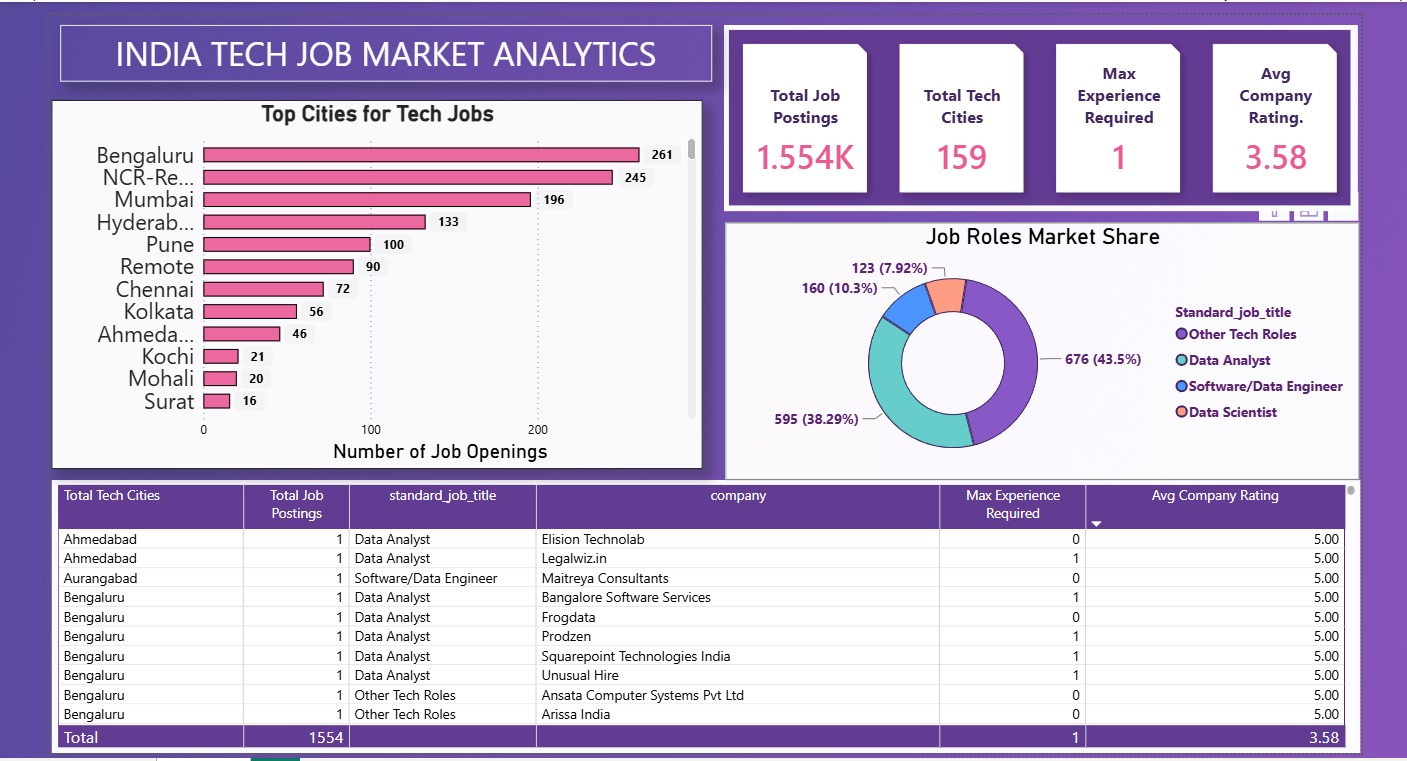

Layout of this report page (visuals, bound fields, positions):
{"tool":"powerbi","page":{"name":"Page 1","canvas":[1280,720],"ordinal":0},"visuals":[{"type":"tableEx","fields":{"Values":["india_job_market_db cleaned_job_listings.cleaned_location","CountNonNull(india_job_market_db cleaned_job_listings.id)","india_job_market_db cleaned_job_listings.standard_job_title","select","india_job_market_db cleaned_job_listings.company","Max(india_job_market_db cleaned_job_listings.min_experience)","Avg(india_job_market_db cleaned_job_listings.rating)"]},"box":[0,467.9,1276.5,251.9],"z":0},{"type":"barChart","title":"Top Cities for Tech Jobs","fields":{"Category":["india_job_market_db cleaned_job_listings.cleaned_location"],"Y":["CountNonNull(india_job_market_db cleaned_job_listings.id)"]},"box":[11.3,77.5,635.2,376.1],"z":1000},{"type":"donutChart","title":"Job Roles Market Share","fields":{"Category":["india_job_market_db cleaned_job_listings.standard_job_title"],"Y":["CountNonNull(india_job_market_db cleaned_job_listings.id)"]},"box":[657.7,187.3,618.3,266.2],"z":2000},{"type":"cardVisual","fields":{"Data":["Count(india_job_market_db cleaned_job_listings.id)","Count(india_job_market_db cleaned_job_listings.cleaned_location)","Max(india_job_market_db cleaned_job_listings.min_experience)","Avg(india_job_market_db cleaned_job_listings.rating)"]},"box":[657.7,9.9,618.3,167.6],"z":3000},{"type":"textbox","box":[11.2,9.2,635.7,55.1],"z":3001}]}

Visuals, with their boxes in screenshot pixels (x1, y1, x2, y2):
tableEx - india_job_market_db cleaned_job_listings.cleaned_location x CountNonNull(india_job_market_db cleaned_job_listings.id): [70, 493, 1355, 747]
"Top Cities for Tech Jobs" barChart: [81, 100, 721, 479]
"Job Roles Market Share" donutChart: [732, 211, 1354, 479]
cardVisual - Count(india_job_market_db cleaned_job_listings.id) x Count(india_job_market_db cleaned_job_listings.cleaned_location): [732, 32, 1354, 201]
textbox: [81, 31, 721, 87]
